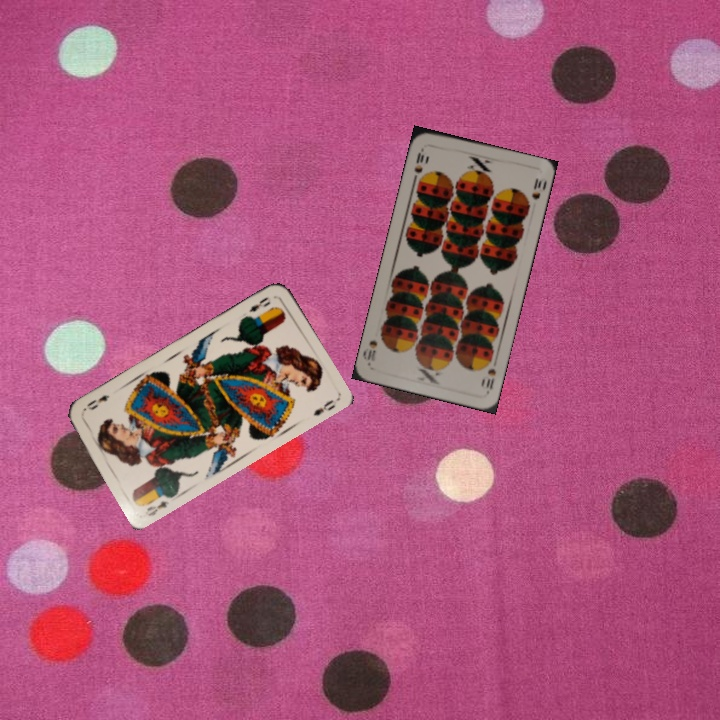EO: (141, 497, 171, 519), (245, 292, 273, 315)
S10: (482, 354, 498, 395), (410, 143, 427, 176)
